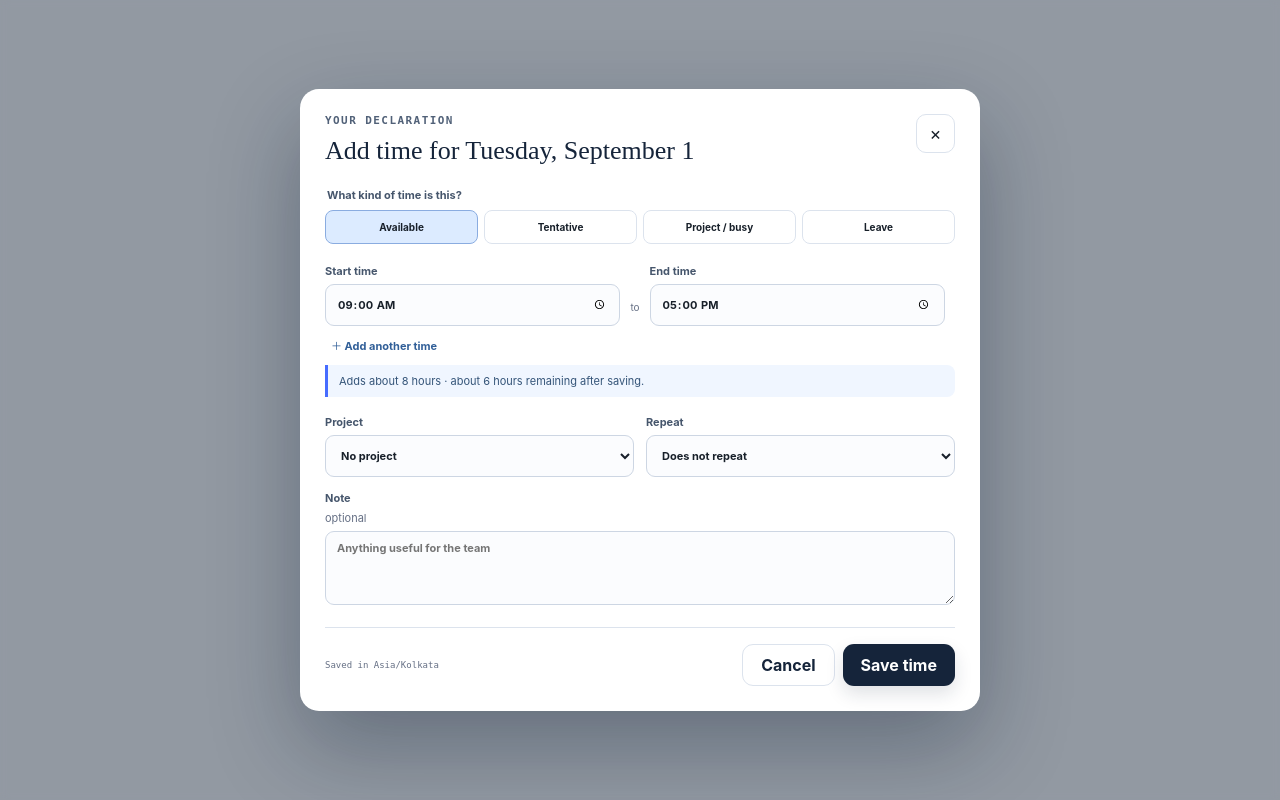
Scenario: member interface › allows multiple split ranges on one date
Click the button "＋ Add another time": (384, 345) [325,336,443,354]
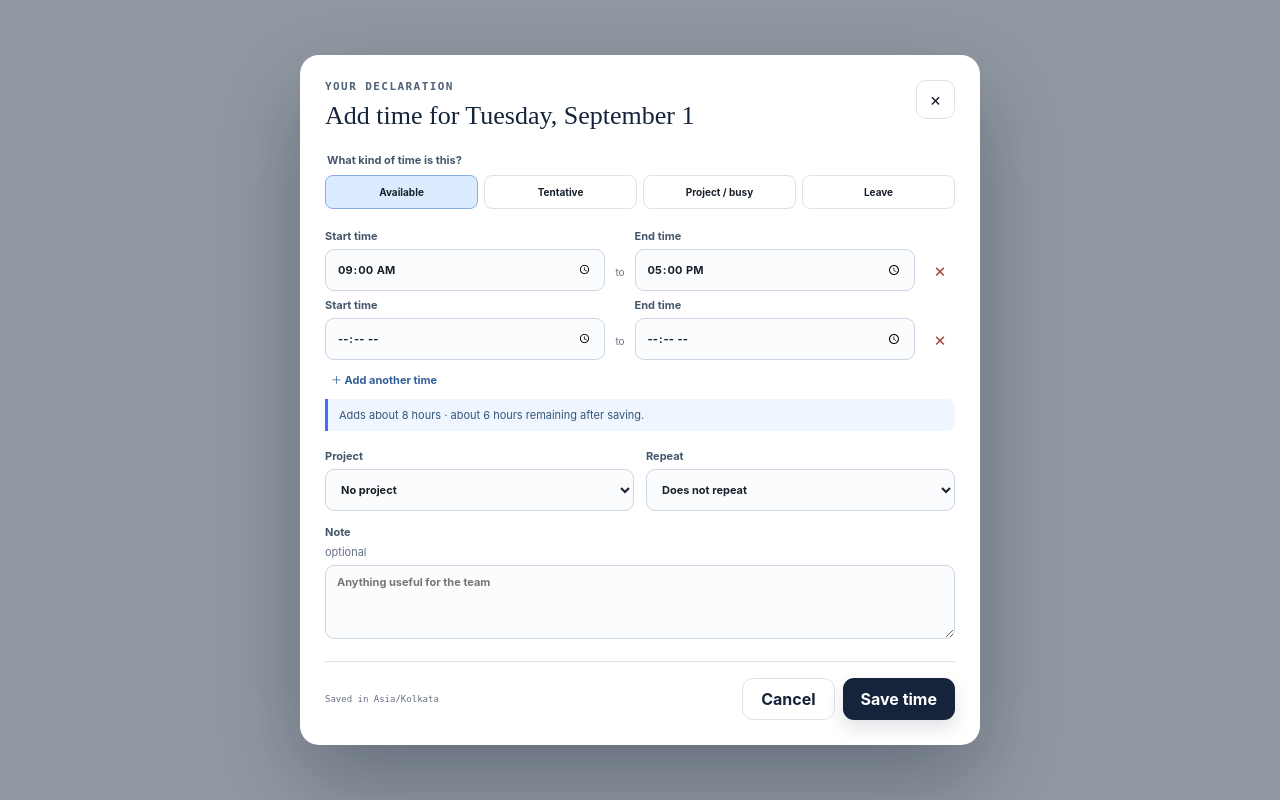
Result: the number of time fields labelled "Start time" is 2 at [325,249,605,291]; [325,318,605,360]
Result: the number of time fields labelled "End time" is 2 at [635,249,915,291]; [635,318,915,360]
